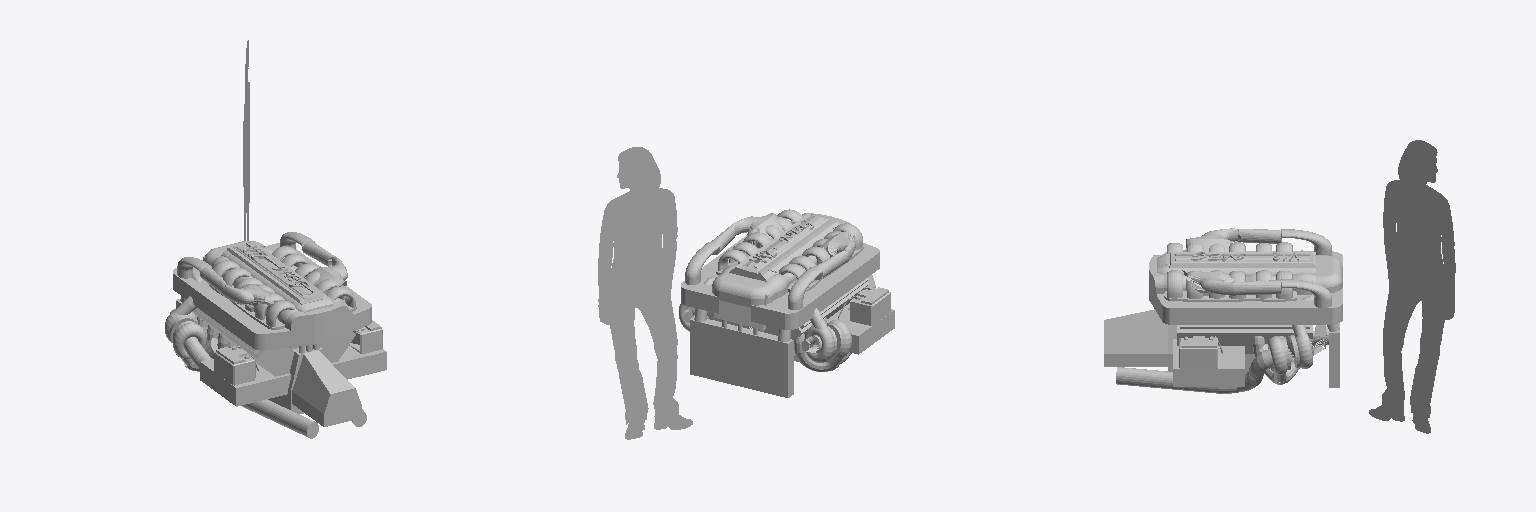
The picture shows the model from 3 angles: view 1: azimuth 30°, elevation 25°; view 2: azimuth 150°, elevation 25°; view 3: azimuth 270°, elevation 25°; orthographic projection.
Parts seen in each view (by area): view 1: Group_001, Group_005, Group_012, Group_004, Group_007, Group_014, Susan_001, Group_027, Group_011; view 2: Susan_001, Group_001, Group_005, Group_012, Group_007, Group_004, Group_014, Group_027, Group_011; view 3: Susan_001, Group_001, Group_012, Group_014, Group_011, Group_007, Group_023, Group_004.
Part boxes in pixels (x1,y1,x2,y2): Group_001: (170,246,386,438); Group_005: (173,245,323,350); Group_012: (230,241,371,341); Group_004: (221,244,319,312); Group_007: (177,257,273,315); Group_014: (280,232,347,286); Susan_001: (243,40,249,240); Group_027: (165,273,202,342); Group_011: (242,241,333,308); Susan_001: (598,147,692,439); Group_001: (684,219,894,397); Group_005: (735,216,879,329); Group_012: (681,213,830,313); Group_007: (788,232,855,309); Group_004: (748,217,841,281); Group_014: (685,213,783,284); Group_027: (778,308,836,362); Group_011: (729,214,823,276); Susan_001: (1369,140,1455,433); Group_001: (1104,248,1339,393); Group_012: (1149,266,1342,324); Group_014: (1186,272,1331,307); Group_011: (1157,258,1315,275); Group_007: (1186,228,1331,255); Group_023: (1289,296,1339,368); Group_004: (1157,252,1315,263).
Size of the model in its own units: 39.38 by 66.6 by 72.77.